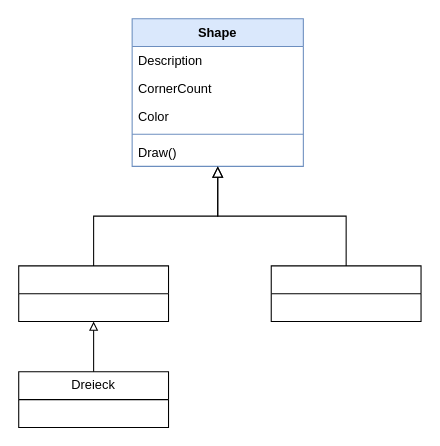
Image size: 440x446. Some labels were removed from this diagram. The centre of each missing label's shape, as x and y in pixels:
Kreis: pixel 345 293
VielEck: pixel 93 293
